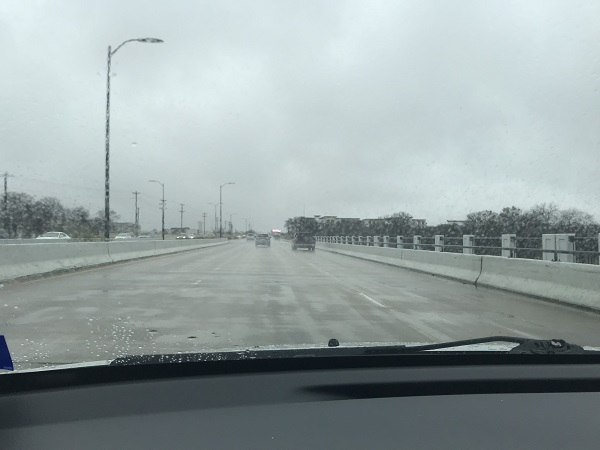car: (254, 233, 270, 246)
truck: (291, 232, 315, 252)
